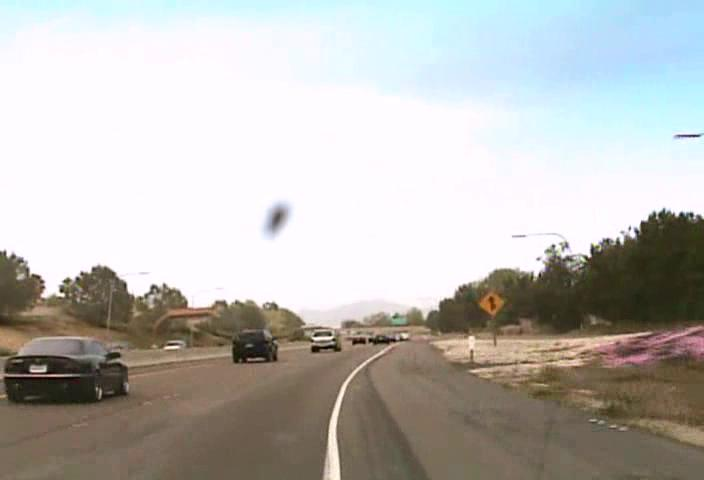merge: (476, 288, 506, 317)
